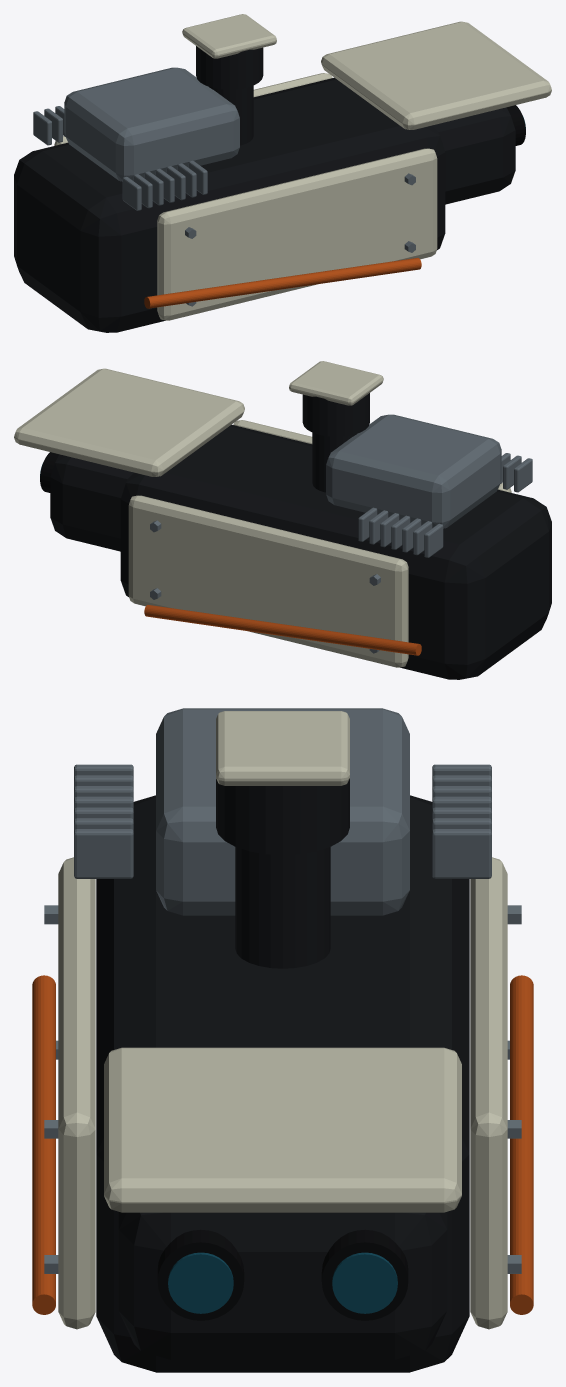
3 renders of one model, top to bottom at view 1: azimuth 30°, elevation 25°; view 2: azimuth 150°, elevation 25°; view 3: azimuth 270°, elevation 25°, orthographic. The views are drawn at different scales.
Parts seen in each view (by area): view 1: mesh0-node, mesh1-node, mesh28-node, mesh33-node, mesh27-node, mesh13-node, mesh36-node, mesh35-node, mesh34-node, mesh14-node, mesh6-node, mesh19-node (+7 smaller); view 2: mesh0-node, mesh14-node, mesh28-node, mesh33-node, mesh27-node, mesh26-node, mesh36-node, mesh35-node, mesh34-node, mesh1-node, mesh19-node, mesh6-node (+7 smaller); view 3: mesh0-node, mesh28-node, mesh27-node, mesh33-node, mesh1-node, mesh14-node, mesh34-node, mesh36-node, mesh35-node, mesh13-node, mesh26-node, mesh29-node (+5 smaller).
Part boxes in pixels (x1,y1,x2,y2): mesh0-node: (14,77,445,332); mesh1-node: (157,148,437,320); mesh28-node: (321,21,551,129); mesh33-node: (64,67,239,181); mesh27-node: (432,107,515,204); mesh13-node: (144,258,421,308); mesh36-node: (182,14,276,58); mesh35-node: (196,46,263,89); mesh34-node: (209,85,253,145); mesh14-node: (54,73,332,145); mesh6-node: (122,176,141,210); mesh19-node: (33,111,51,145); mesh0-node: (120,424,551,679); mesh14-node: (128,495,408,667); mesh28-node: (14,368,244,476); mesh33-node: (326,414,501,528); mesh27-node: (50,454,133,551); mesh26-node: (144,605,421,655); mesh36-node: (289,361,383,405); mesh35-node: (302,393,369,436); mesh34-node: (312,432,356,492); mesh1-node: (233,420,511,492); mesh19-node: (424,523,443,557); mesh6-node: (514,458,532,492); mesh0-node: (96,795,469,1372); mesh28-node: (104,1047,461,1212); mesh27-node: (118,1212,447,1359); mesh33-node: (156,708,409,915); mesh1-node: (58,857,95,1329); mesh14-node: (470,857,507,1329); mesh34-node: (235,847,330,968); mesh36-node: (216,711,349,785); mesh35-node: (216,778,349,855); mesh13-node: (32,975,55,1314); mesh26-node: (510,975,533,1314); mesh29-node: (157,1229,244,1320).
Size of the model in its own units: 0.715 by 0.336 by 0.355.
